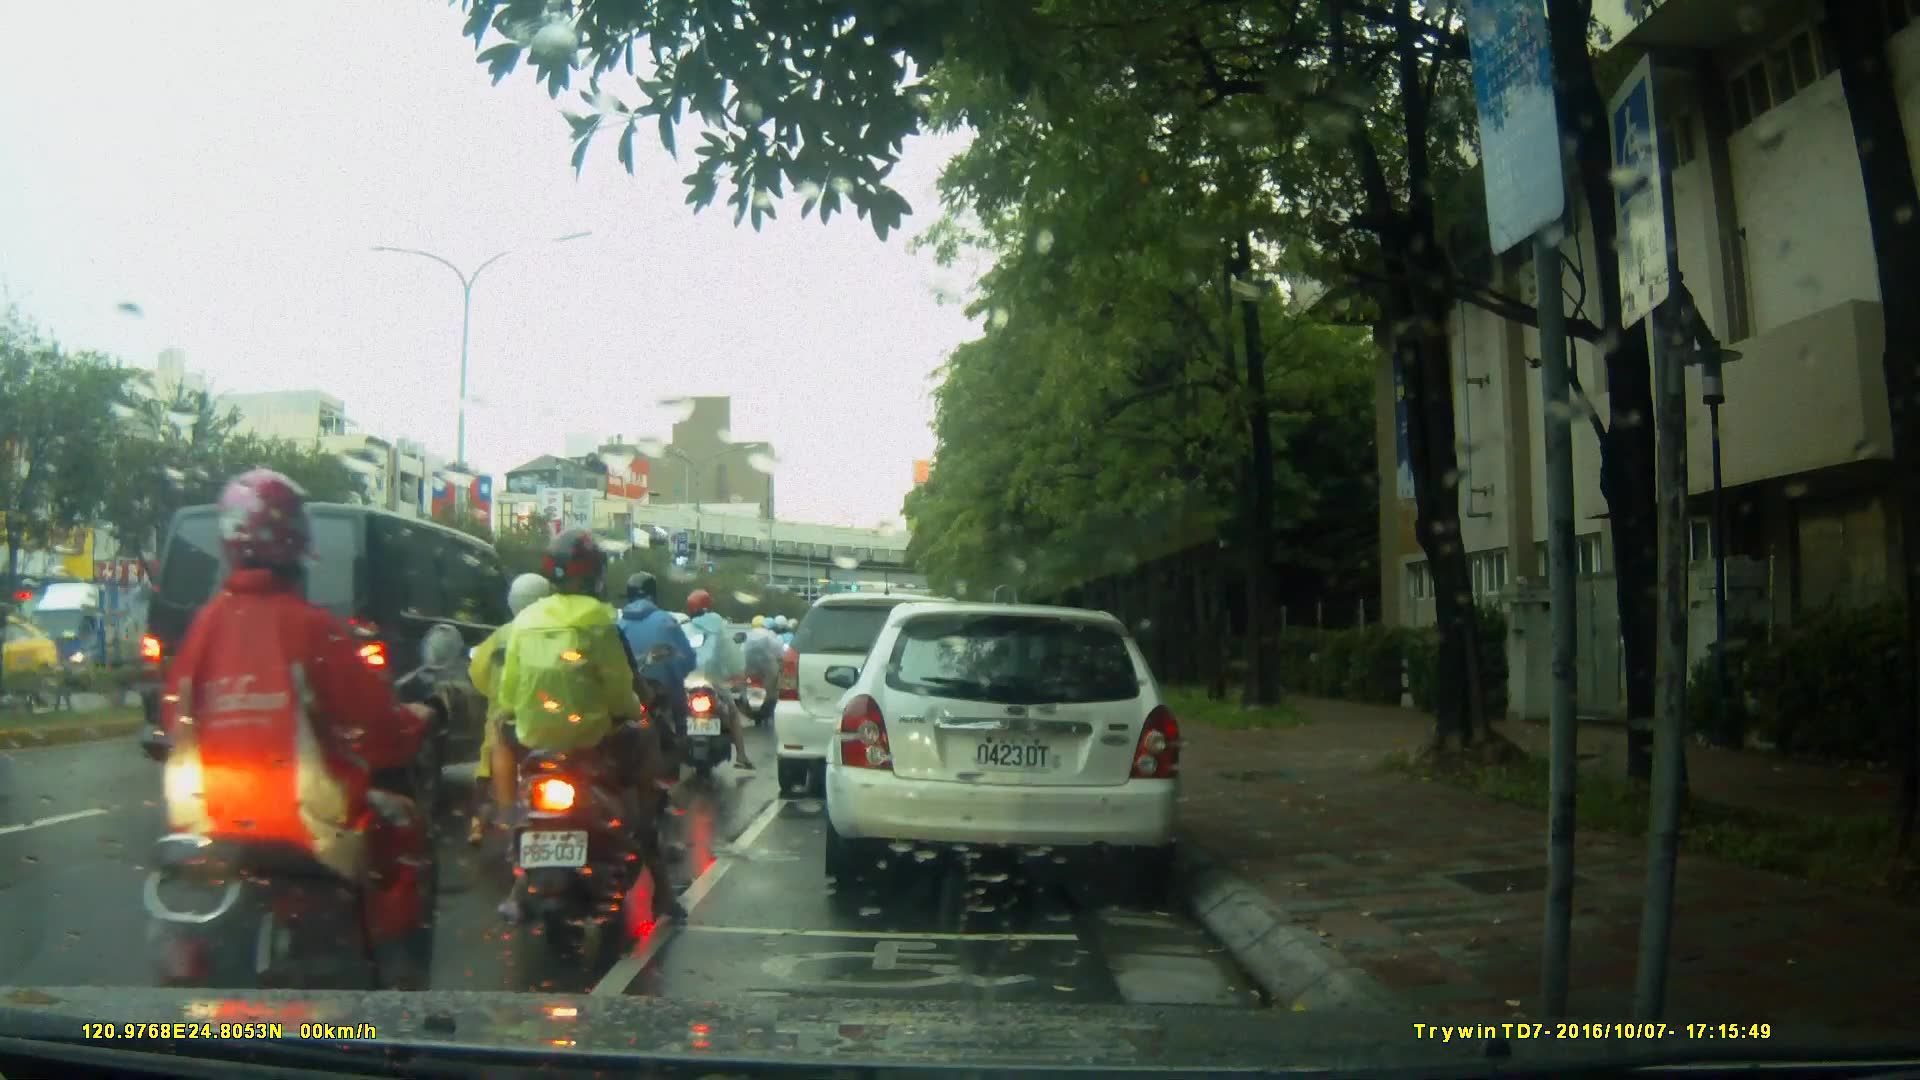rider: (130, 467, 449, 1056), (482, 528, 685, 938), (485, 577, 612, 880), (597, 573, 707, 811), (670, 590, 748, 777), (739, 612, 787, 731)
vehicle: (134, 500, 554, 823), (822, 604, 1188, 883), (774, 595, 995, 802), (488, 603, 713, 764), (20, 576, 199, 697)
